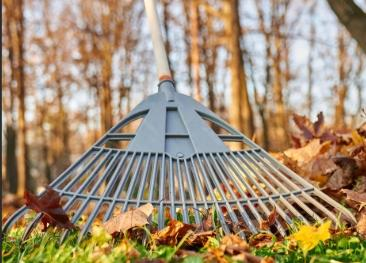RATEAU: (0, 3, 352, 263)
